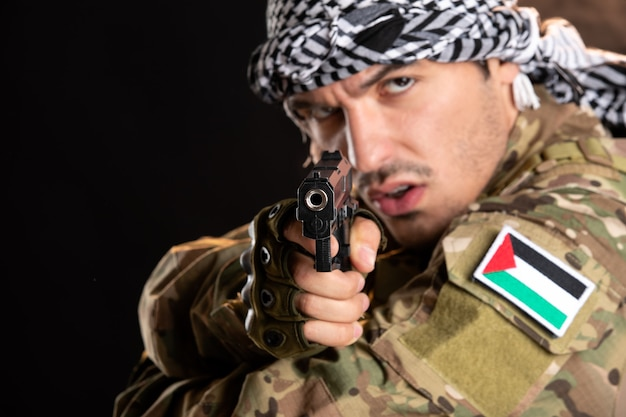gun: (294, 149, 355, 275)
